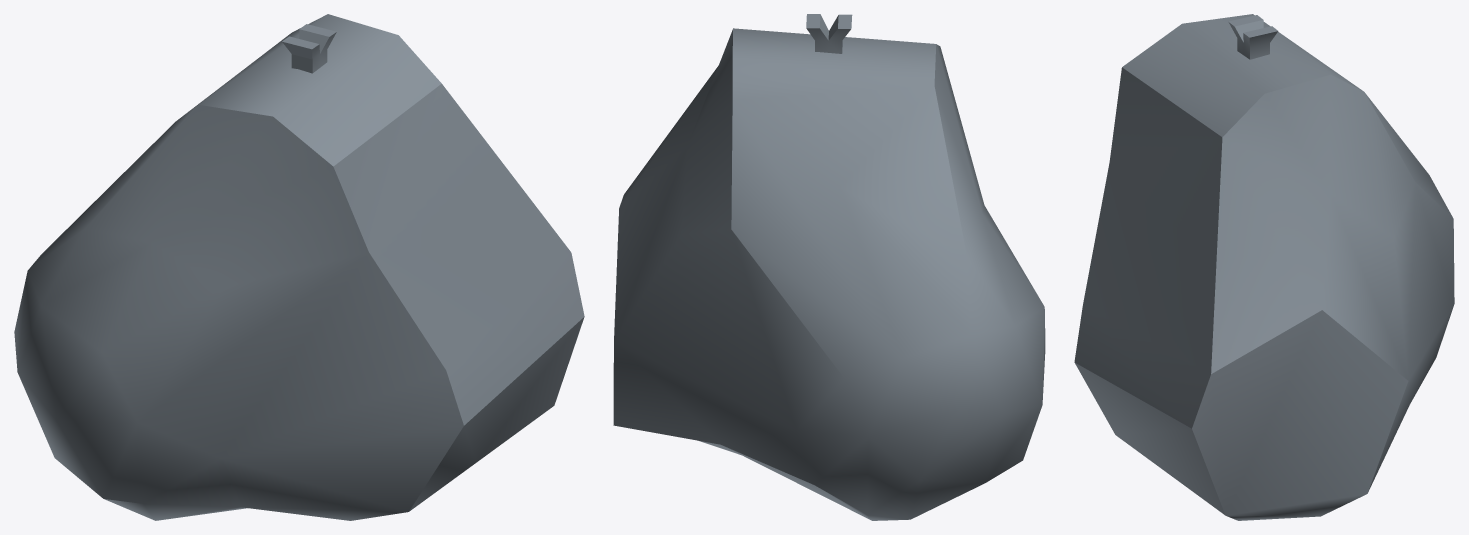
The model's file is TrashBag02_Alisson3d.fbx.
3 views of the same model, side by side, from view 1: azimuth 30°, elevation 25°; view 2: azimuth 150°, elevation 25°; view 3: azimuth 270°, elevation 25° (orthographic). The views are drawn at different scales.
Parts seen in each view (by area): view 1: TrashBag02; view 2: TrashBag02; view 3: TrashBag02.
Boxes of the visible parts, bbox=[...] form: TrashBag02: bbox=[14, 14, 584, 520]; TrashBag02: bbox=[613, 14, 1045, 520]; TrashBag02: bbox=[1074, 14, 1454, 520].
Bounding box in the file's own units: 248 × 227 × 183.
